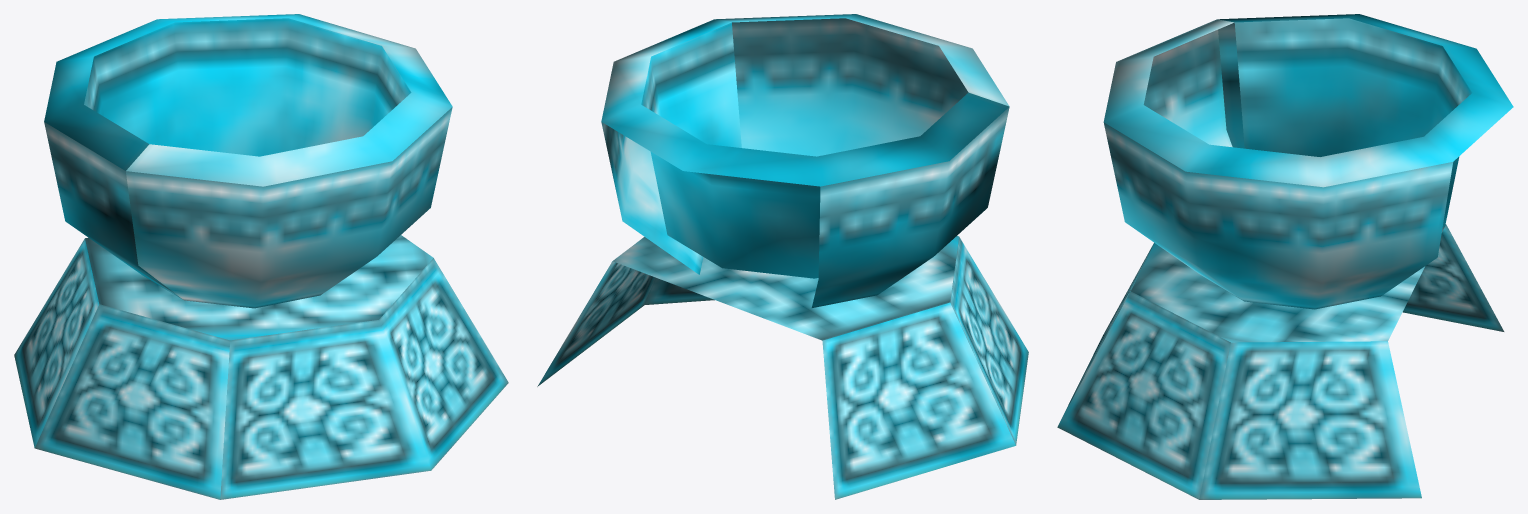
The model's file is bowl_ice.fbx.
3 renders of one model, left to right at view 1: azimuth 30°, elevation 25°; view 2: azimuth 150°, elevation 25°; view 3: azimuth 270°, elevation 25°, orthographic.
Visible parts, largest first — view 1: GeoSphere01_mesh; view 2: GeoSphere01_mesh; view 3: GeoSphere01_mesh.
Boxes of the visible parts, x1,y1,x2,y2 form: GeoSphere01_mesh: [14, 14, 508, 499]; GeoSphere01_mesh: [537, 14, 1028, 499]; GeoSphere01_mesh: [1057, 14, 1513, 499].
Bounding box in the file's own units: 1.85 × 1.29 × 1.73.
